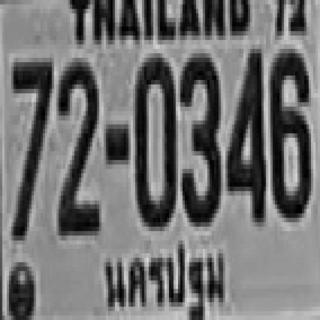N00: (127, 50, 181, 232)
N02: (56, 49, 106, 250)
N03: (177, 45, 227, 242)
N04: (231, 40, 268, 244)
N06: (270, 40, 315, 254)
N07: (1, 40, 55, 246)
P28: (92, 249, 244, 320)
